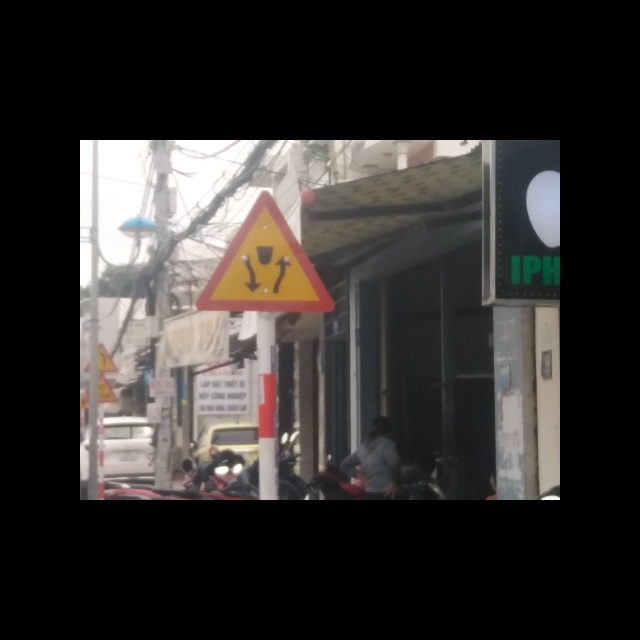Đường đôi: (192, 186, 335, 311)
